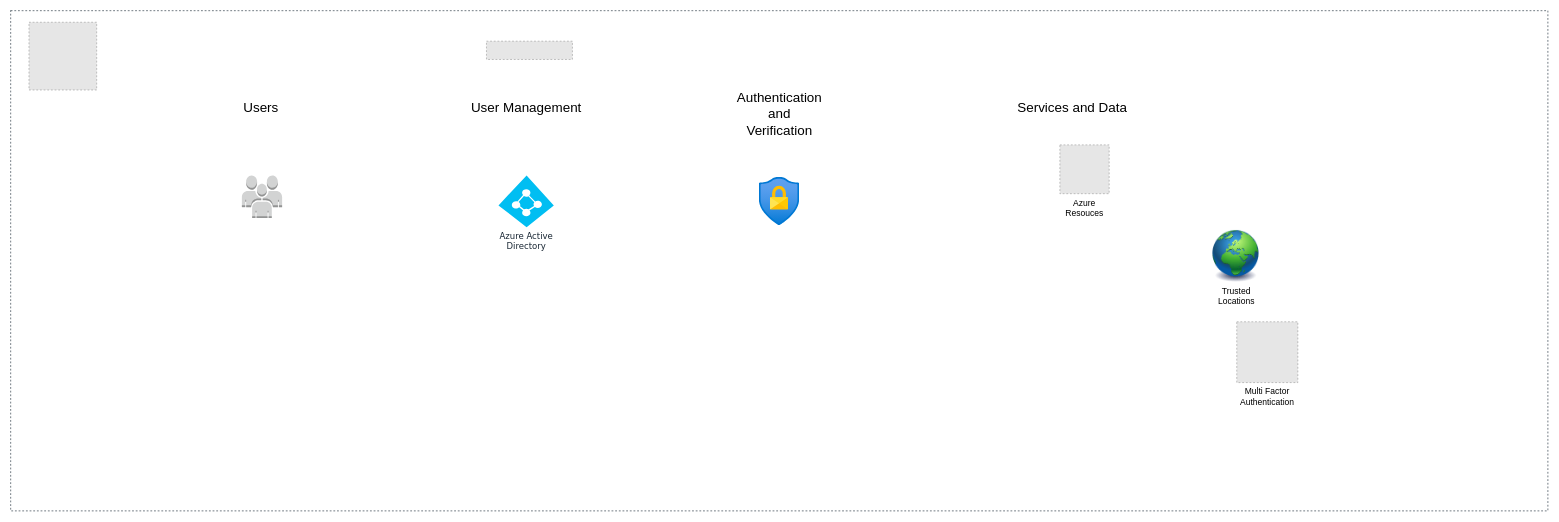
Image size: 1559x522. Some labels were removed from this diagram. Grey dashed boxes stand in for pictures. Each missing label, with the box of its shape:
Conditional Access: (759, 177, 799, 225)
Non-compliant Users: (241, 175, 282, 218)
